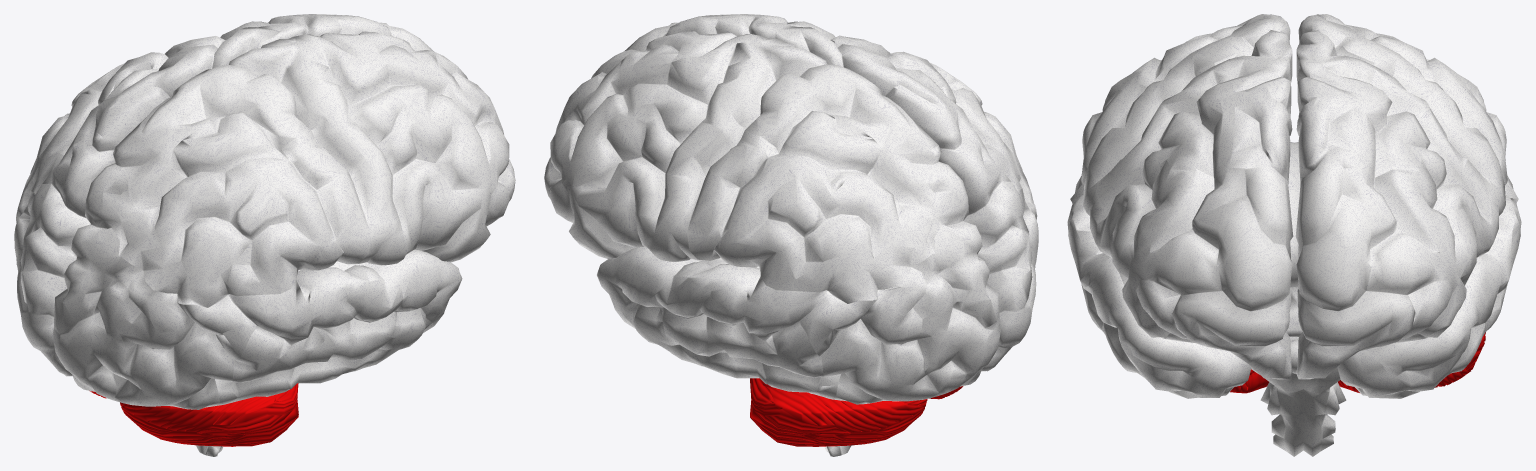
File: BRAIN.glb
The picture shows the model from 3 angles, left to right: view 1: azimuth 30°, elevation 25°; view 2: azimuth 150°, elevation 25°; view 3: azimuth 270°, elevation 25°; orthographic projection. The views are drawn at different scales.
Parts seen in each view (by area): view 1: instance_2, instance_5, instance_4, instance_1.001, instance_2.002, instance_4.001, instance_7, instance_5.001; view 2: instance_2.002, instance_5.001, instance_4.001, instance_1.003, instance_2, instance_7, instance_4, instance_5; view 3: instance_5, instance_5.001, instance_1.003, instance_1.001, instance_2.002, instance_2, instance_3, instance_6, instance_7.
Part boxes in pixels (box(x1,y1,x2,y2)): instance_2: box(85, 65, 370, 307); instance_5: box(229, 31, 515, 265); instance_4: box(52, 224, 256, 409); instance_1.001: box(205, 250, 462, 407); instance_2.002: box(22, 36, 224, 218); instance_4.001: box(14, 183, 90, 376); instance_7: box(90, 383, 298, 446); instance_5.001: box(212, 14, 433, 68); instance_2.002: box(687, 64, 968, 303); instance_5.001: box(544, 31, 826, 261); instance_4.001: box(799, 221, 1000, 404); instance_1.003: box(597, 246, 846, 401); instance_2: box(831, 35, 1030, 215); instance_7: box(750, 378, 963, 446); instance_4: box(963, 181, 1038, 371); instance_5: box(625, 14, 843, 67); instance_5: box(1083, 30, 1293, 379); instance_5.001: box(1295, 30, 1505, 379); instance_1.003: box(1337, 176, 1521, 398); instance_1.001: box(1067, 176, 1251, 398); instance_2.002: box(1298, 14, 1507, 203); instance_2: box(1081, 14, 1290, 203); instance_3: box(1251, 287, 1346, 456); instance_6: box(1288, 142, 1300, 287); instance_7: box(1230, 332, 1485, 393).
Bounding box in the file's own units: 6.42 × 5.62 × 5.28.
